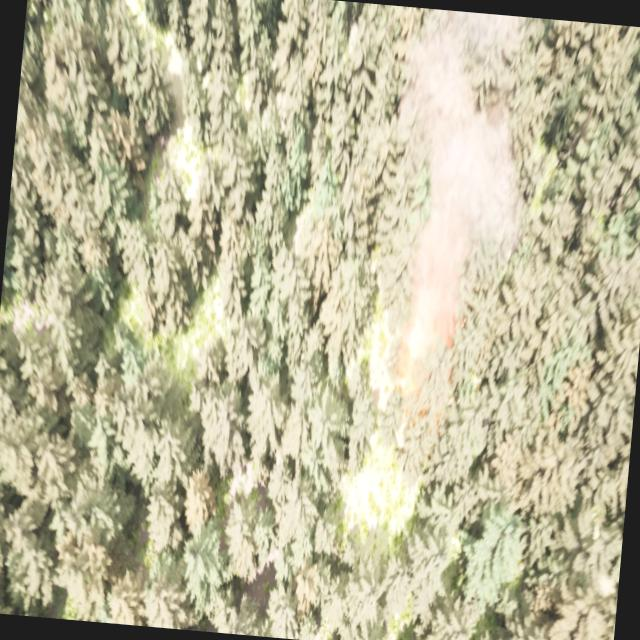fire: (397, 275, 452, 389)
smoke: (385, 8, 543, 412)
